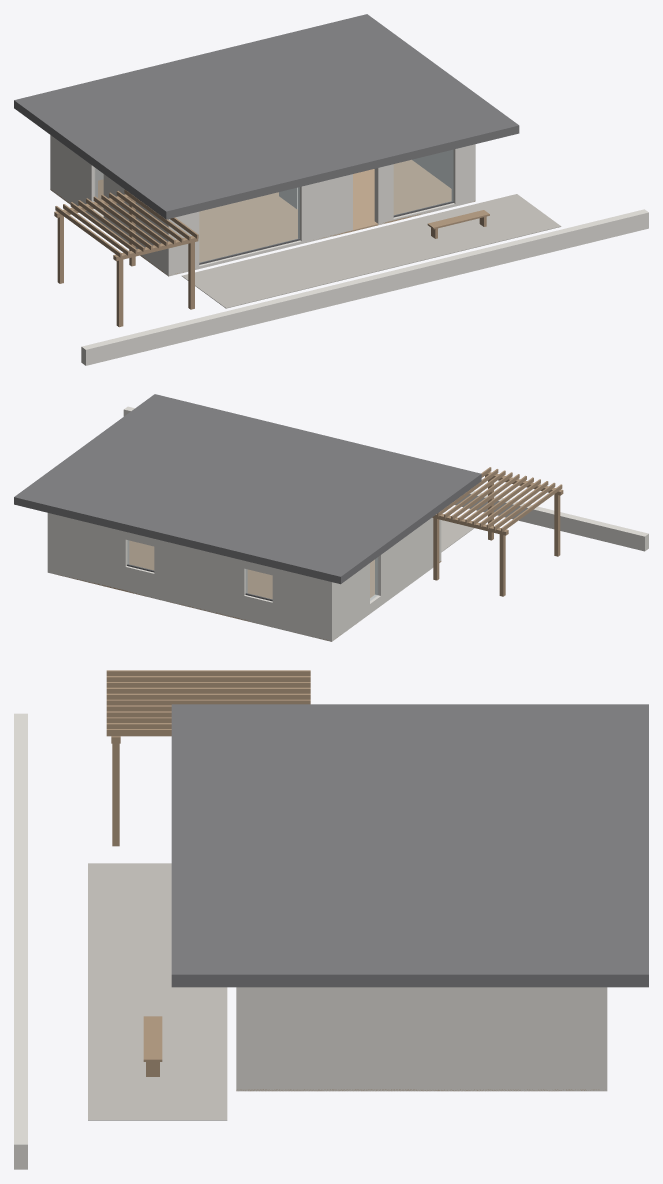
3 renders of one model, top to bottom at view 1: azimuth 30°, elevation 25°; view 2: azimuth 150°, elevation 25°; view 3: azimuth 270°, elevation 25°, orthographic. The views are drawn at different scales.
Parts seen in each view (by area): view 1: roof, wall, paving, floor, glass, wood; view 2: roof, wall, wood, floor, glass, paving; view 3: roof, wall, paving, wood.
Part boxes in pixels (<box>): roof: <box>14,14,519,219</box>; wall: <box>50,135,648,365</box>; paving: <box>182,194,561,308</box>; floor: <box>50,160,474,276</box>; glass: <box>95,150,453,262</box>; wood: <box>54,189,489,327</box>; roof: <box>14,394,481,584</box>; wall: <box>47,406,648,641</box>; wood: <box>432,467,563,596</box>; floor: <box>58,541,441,641</box>; glass: <box>127,540,377,600</box>; paving: <box>441,520,474,552</box>; roof: <box>171,704,648,987</box>; wall: <box>14,713,607,1169</box>; paving: <box>88,863,227,1120</box>; wood: <box>106,670,310,1076</box>.
Size of what is drawn, in the model's own units: 22 by 3.2 by 13.7.
